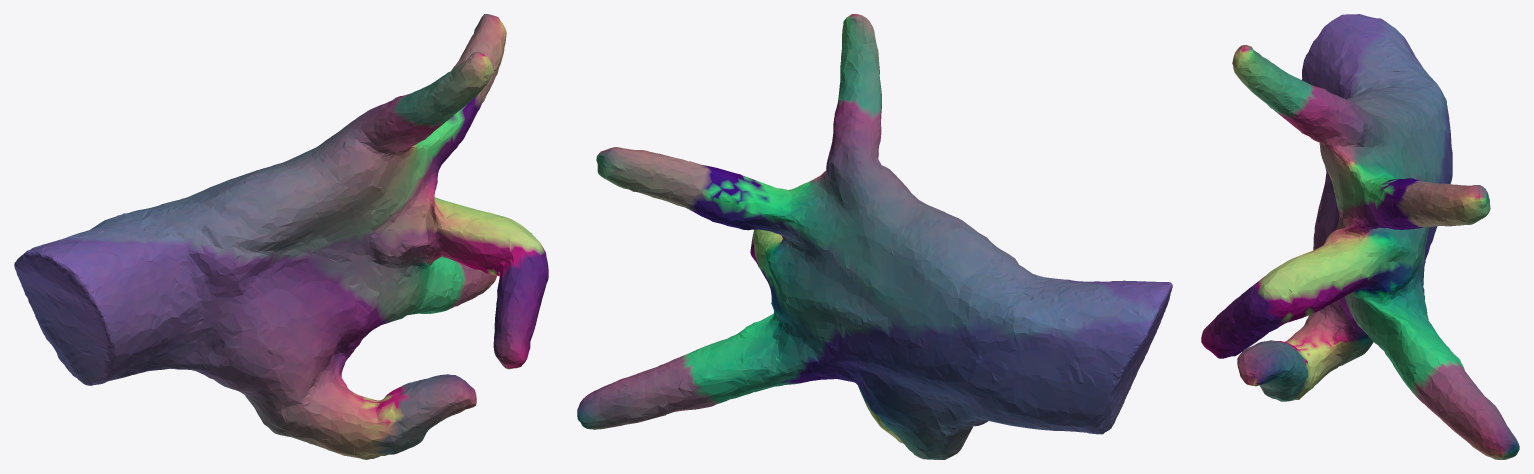
Rendered from hand-11.off.obj.
The picture shows the model from 3 angles, left to right: view 1: azimuth 30°, elevation 25°; view 2: azimuth 150°, elevation 25°; view 3: azimuth 270°, elevation 25°; orthographic projection. The views are drawn at different scales.
Size of the model in its own units: 1.6 by 1.16 by 0.8589.
